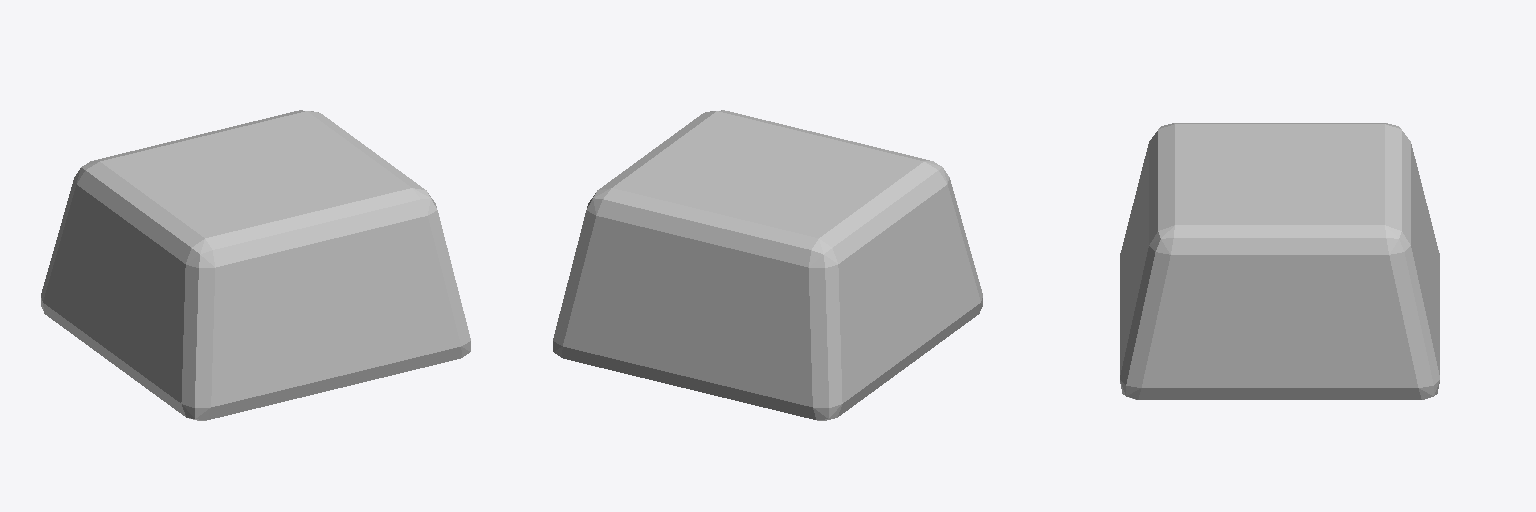
Rendered from Rock1.obj.
3 renders of one model, left to right at view 1: azimuth 30°, elevation 25°; view 2: azimuth 150°, elevation 25°; view 3: azimuth 270°, elevation 25°, orthographic.
Parts seen in each view (by area): view 1: Rock1_Cube.471; view 2: Rock1_Cube.471; view 3: Rock1_Cube.471.
Part boxes in pixels (left/top/right/bottom): Rock1_Cube.471: left=41, top=110, right=470, bottom=420; Rock1_Cube.471: left=553, top=110, right=982, bottom=420; Rock1_Cube.471: left=1120, top=123, right=1439, bottom=399.
Size of the model in its own units: 0.9339 by 0.5043 by 0.9025.